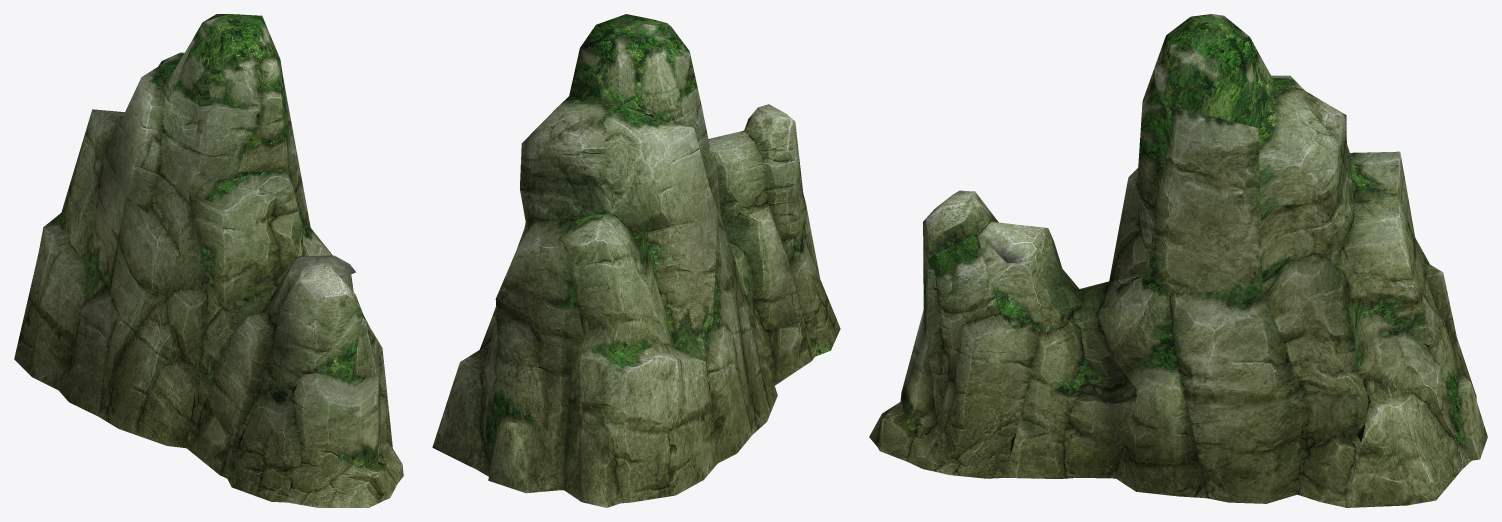
Rendered from Utility_Stone_Maincity11_02_LOD2.FBX.
3 views of the same model, side by side, from view 1: azimuth 30°, elevation 25°; view 2: azimuth 150°, elevation 25°; view 3: azimuth 270°, elevation 25° (orthographic). The views are drawn at different scales.
Visible parts, largest first — view 1: Utility_Stone_Maincity11_02_LOD2; view 2: Utility_Stone_Maincity11_02_LOD2; view 3: Utility_Stone_Maincity11_02_LOD2.
Part boxes in pixels (left/top/right/bottom): Utility_Stone_Maincity11_02_LOD2: left=14, top=14, right=403, bottom=507; Utility_Stone_Maincity11_02_LOD2: left=432, top=14, right=840, bottom=507; Utility_Stone_Maincity11_02_LOD2: left=869, top=14, right=1487, bottom=507.
Size of the model in its own units: 772 by 1149 by 1517.
